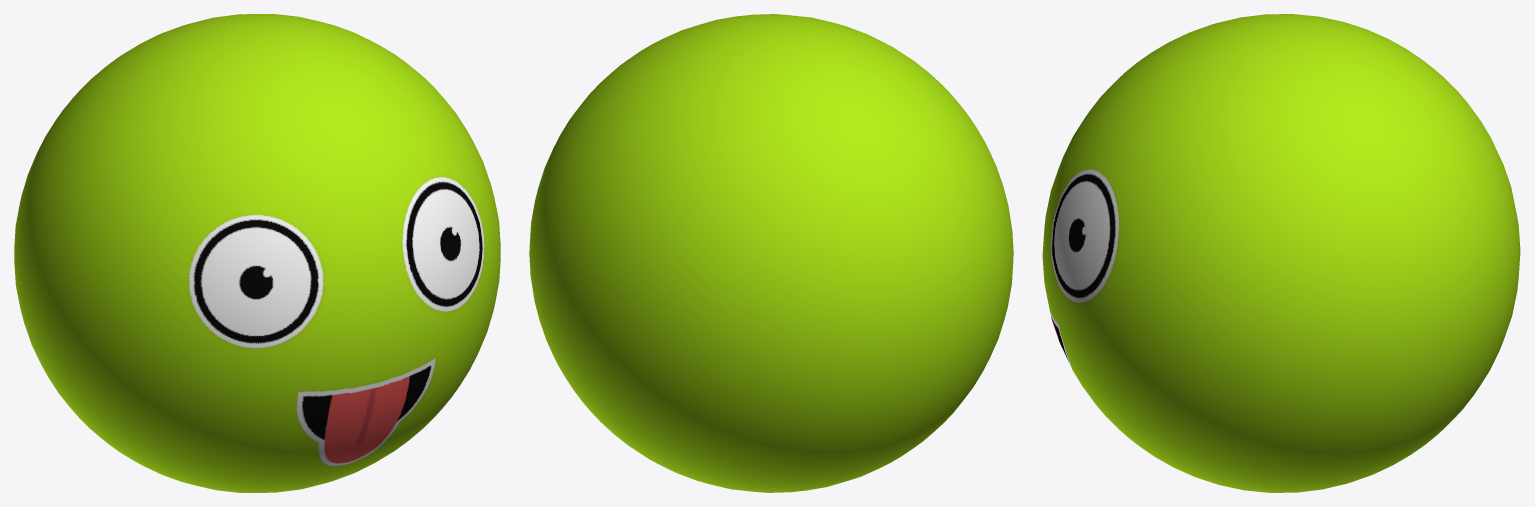
File: FaceStandard.fbx
3 renders of one model, left to right at view 1: azimuth 30°, elevation 25°; view 2: azimuth 150°, elevation 25°; view 3: azimuth 270°, elevation 25°, orthographic.
Visible parts, largest first — view 1: root; view 2: root; view 3: root.
Boxes of the visible parts, x1,y1,x2,y2 form: root: [14, 14, 500, 492]; root: [529, 14, 1013, 492]; root: [1042, 14, 1520, 492].
Bounding box in the file's own units: 0.4239 × 0.4164 × 0.4164.
Materials: 1 (1 with a texture image).
